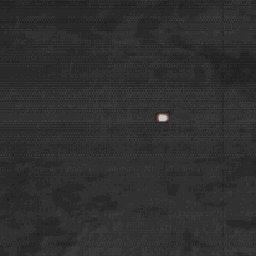Target: (155, 112, 168, 121)
